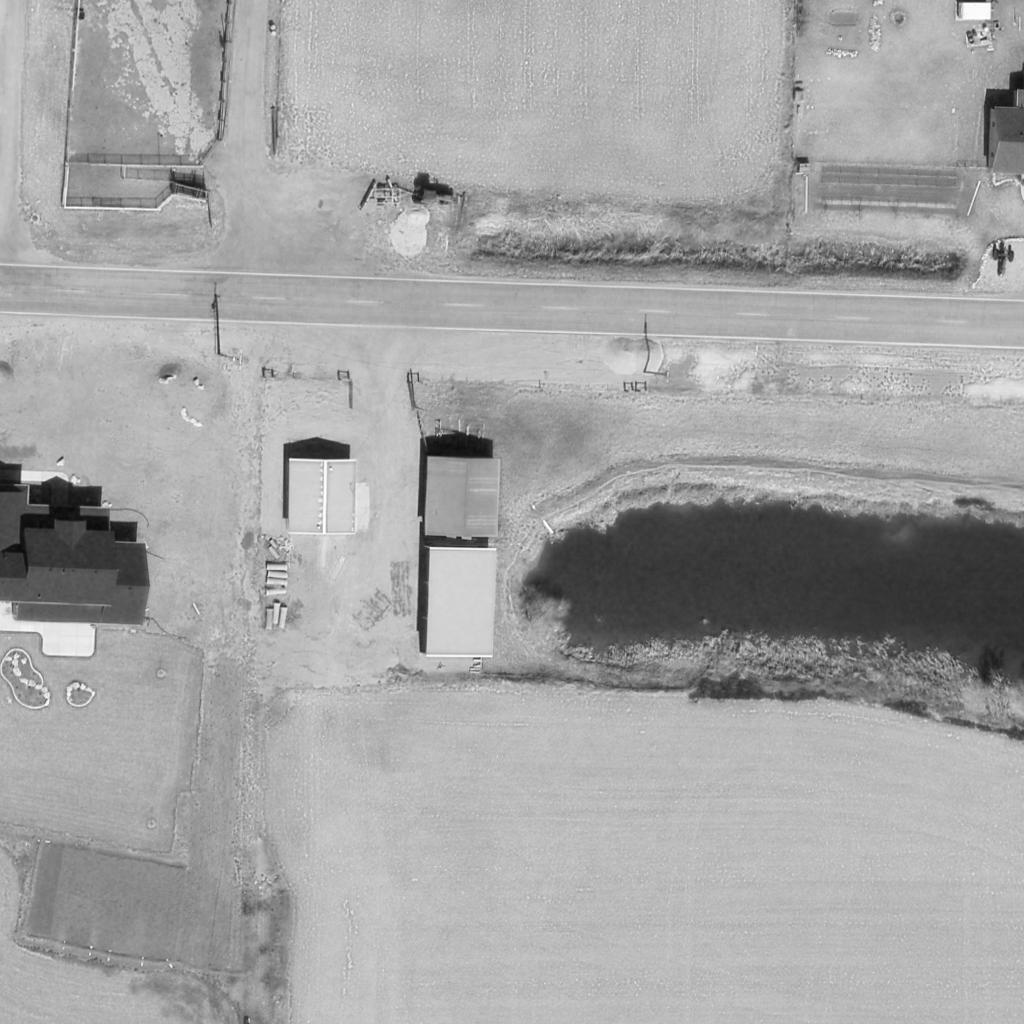vehicle: (413, 184, 455, 210)
